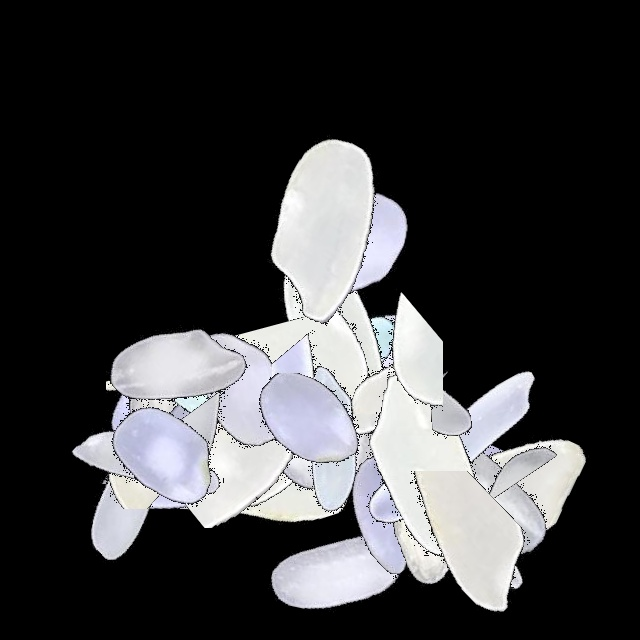Broken: (130, 374, 380, 548), (222, 443, 472, 615), (171, 373, 421, 543), (121, 274, 288, 524), (117, 369, 367, 528), (310, 471, 560, 625), (181, 347, 431, 494), (54, 416, 304, 560), (233, 264, 372, 514), (93, 335, 229, 585), (87, 296, 218, 546), (309, 349, 434, 599), (320, 430, 570, 550), (0, 370, 250, 488), (0, 367, 250, 484), (256, 258, 370, 508), (429, 252, 541, 502), (177, 325, 286, 575), (272, 263, 377, 513), (212, 329, 313, 579), (352, 399, 602, 499), (235, 348, 485, 446), (106, 292, 202, 542), (350, 233, 443, 483), (189, 354, 439, 446), (0, 419, 250, 509), (249, 369, 499, 453), (243, 331, 493, 414), (268, 330, 518, 412)
Full: (251, 230, 501, 480), (194, 268, 444, 518), (363, 371, 613, 621), (120, 350, 370, 600), (23, 288, 273, 538), (87, 341, 337, 591), (213, 217, 463, 467), (239, 117, 489, 367), (267, 384, 517, 634), (180, 295, 430, 545), (324, 390, 574, 640), (363, 374, 613, 624), (296, 390, 546, 640), (5, 370, 255, 620), (198, 100, 448, 350), (204, 317, 454, 567), (331, 325, 581, 575), (302, 340, 552, 590), (49, 244, 299, 494), (22, 340, 272, 590), (38, 329, 288, 579)
